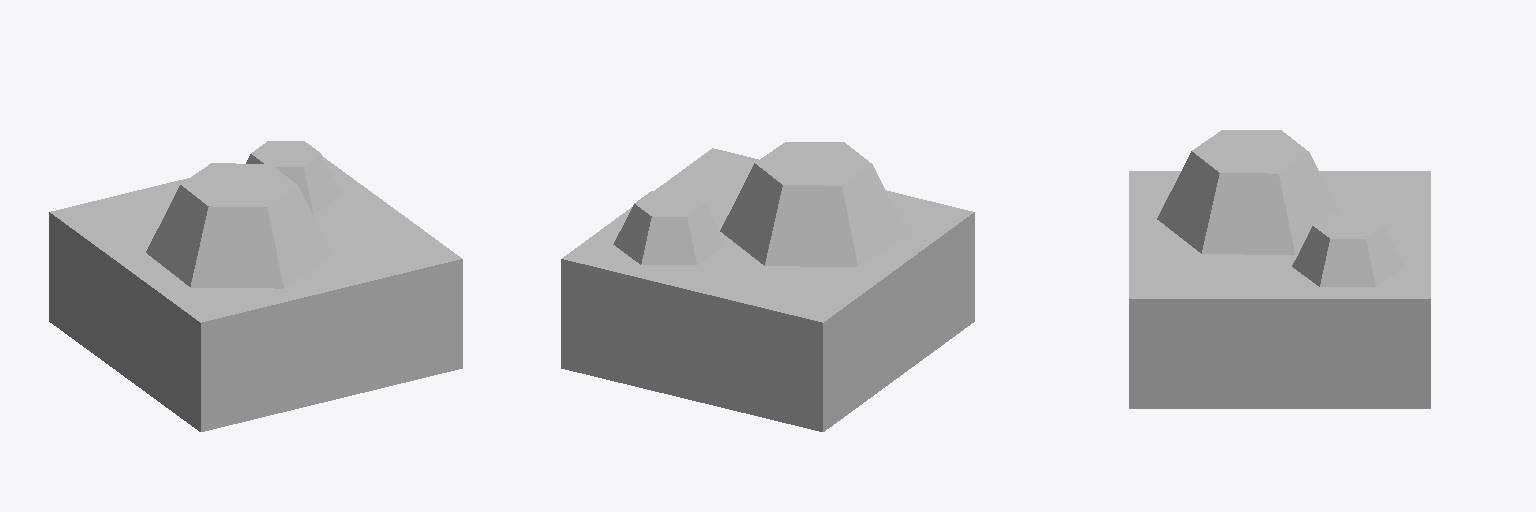
File: towerDefense_007.obj
3 views of the same model, side by side, from view 1: azimuth 30°, elevation 25°; view 2: azimuth 150°, elevation 25°; view 3: azimuth 270°, elevation 25° (orthographic).
Visible parts, largest first — view 1: Mesh3 Group1 Model, Mesh1 Group2 Group1 Model, Mesh2 Group3 Group1 Model; view 2: Mesh3 Group1 Model, Mesh1 Group2 Group1 Model, Mesh2 Group3 Group1 Model; view 3: Mesh3 Group1 Model, Mesh1 Group2 Group1 Model, Mesh2 Group3 Group1 Model.
Boxes of the visible parts, box(x1,y1,x2,y2) form: Mesh3 Group1 Model: box(49, 158, 462, 431); Mesh1 Group2 Group1 Model: box(146, 163, 332, 288); Mesh2 Group3 Group1 Model: box(246, 141, 341, 214); Mesh3 Group1 Model: box(561, 148, 974, 431); Mesh1 Group2 Group1 Model: box(720, 142, 906, 266); Mesh2 Group3 Group1 Model: box(613, 191, 725, 264); Mesh3 Group1 Model: box(1129, 171, 1430, 408); Mesh1 Group2 Group1 Model: box(1157, 130, 1339, 254); Mesh2 Group3 Group1 Model: box(1292, 213, 1403, 286).
Size of the model in its own units: 1 by 0.65 by 1.